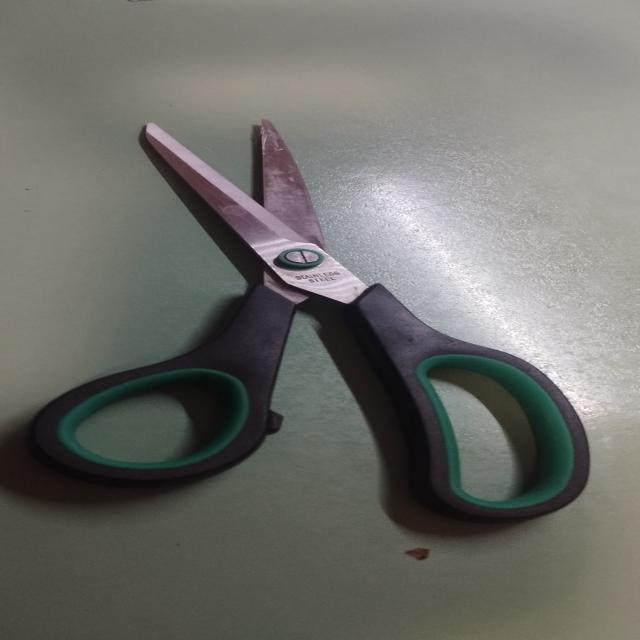tesoura: (0, 118, 602, 530)
